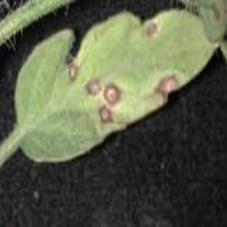Bacterial Spot: (13, 8, 218, 164)
